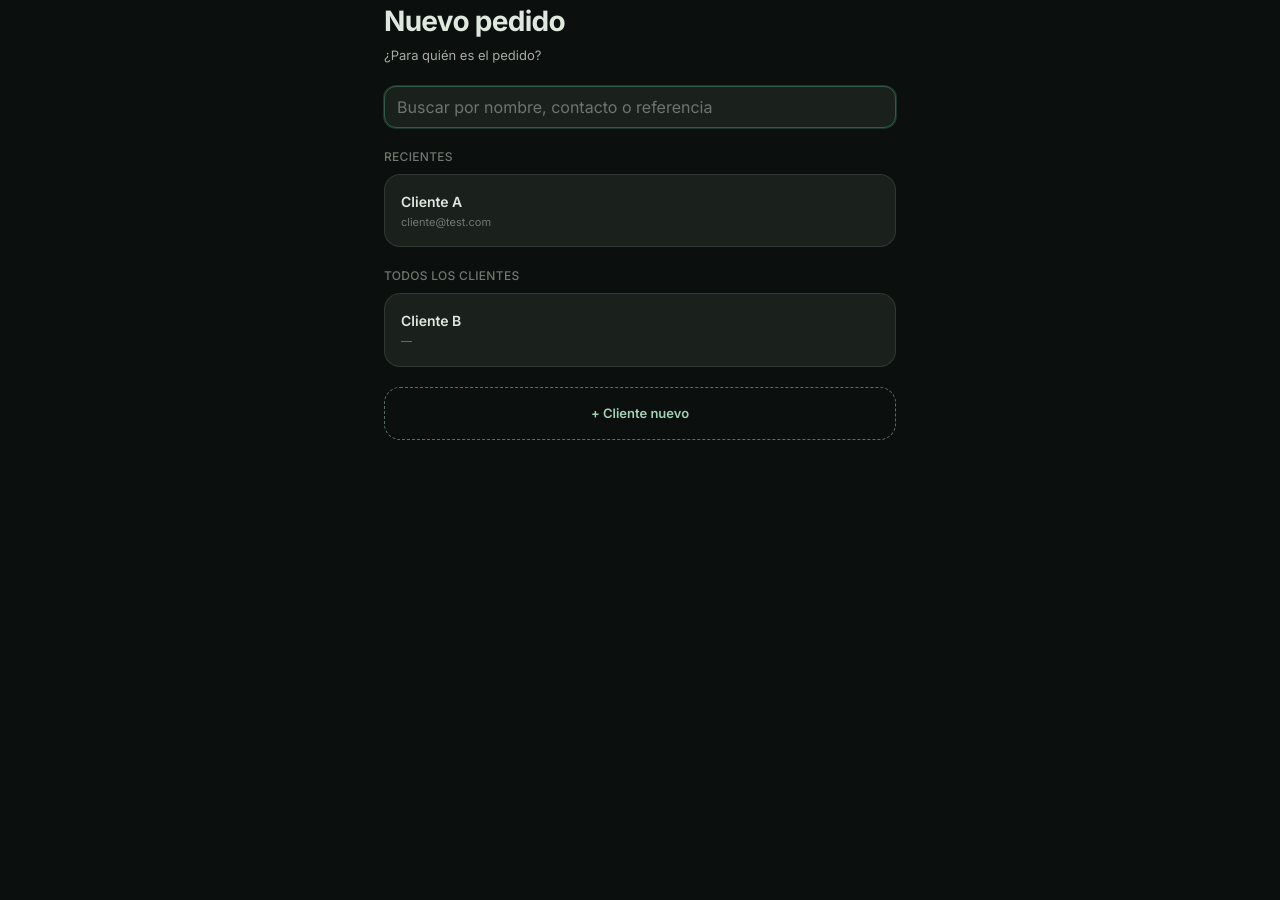
Scenario: NuevoPedidoPage › desktop split: el resumen es un panel visible en lg sin abrir el sheet móvil
Click the button "Cliente A cliente@test.com" at point(432, 201), box [384,174,896,247]
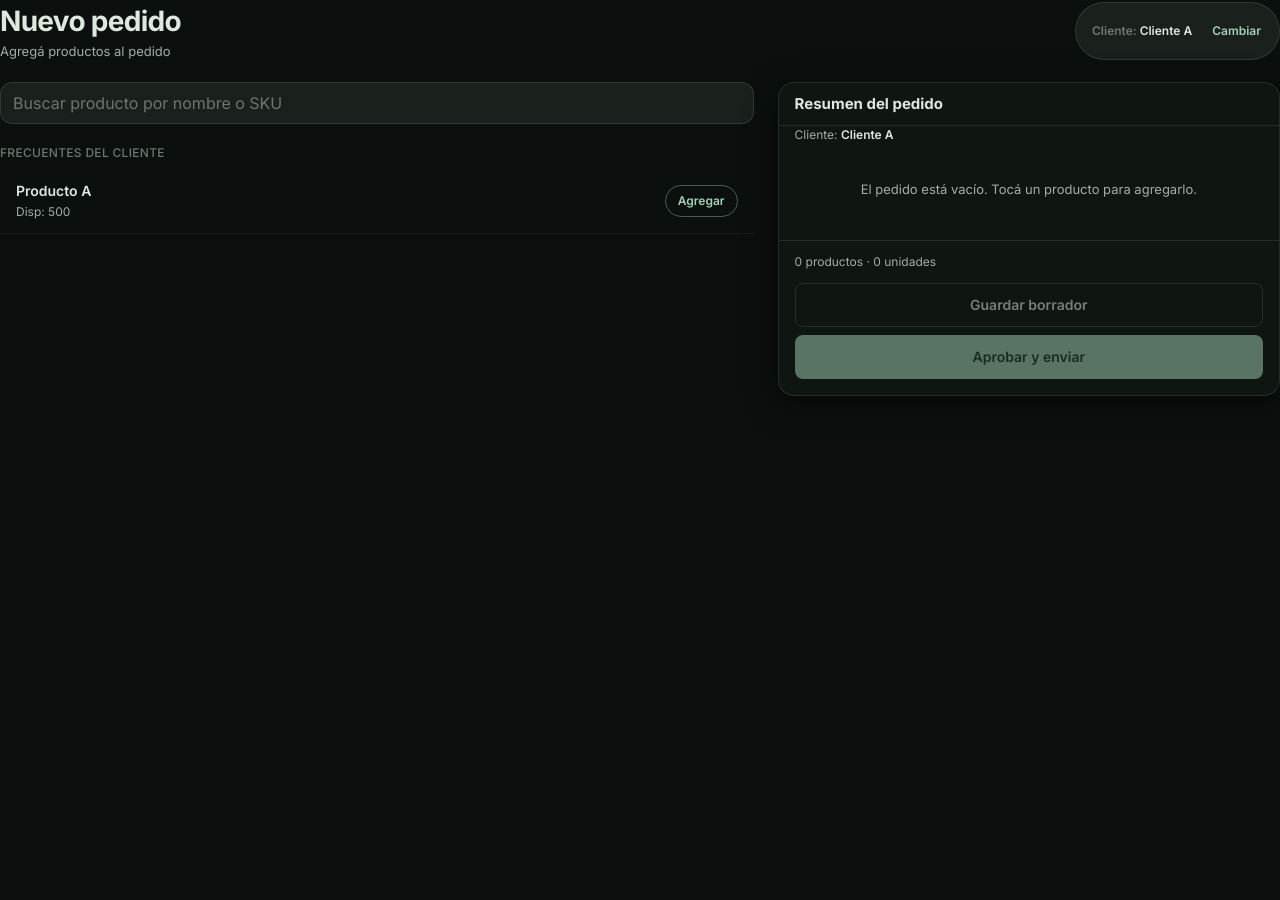
Expected: the button "Cambiar" is shown, [1200,9,1273,53]
Click the button with aria-label "Producto A" at point(701, 201), box [665,185,738,217]
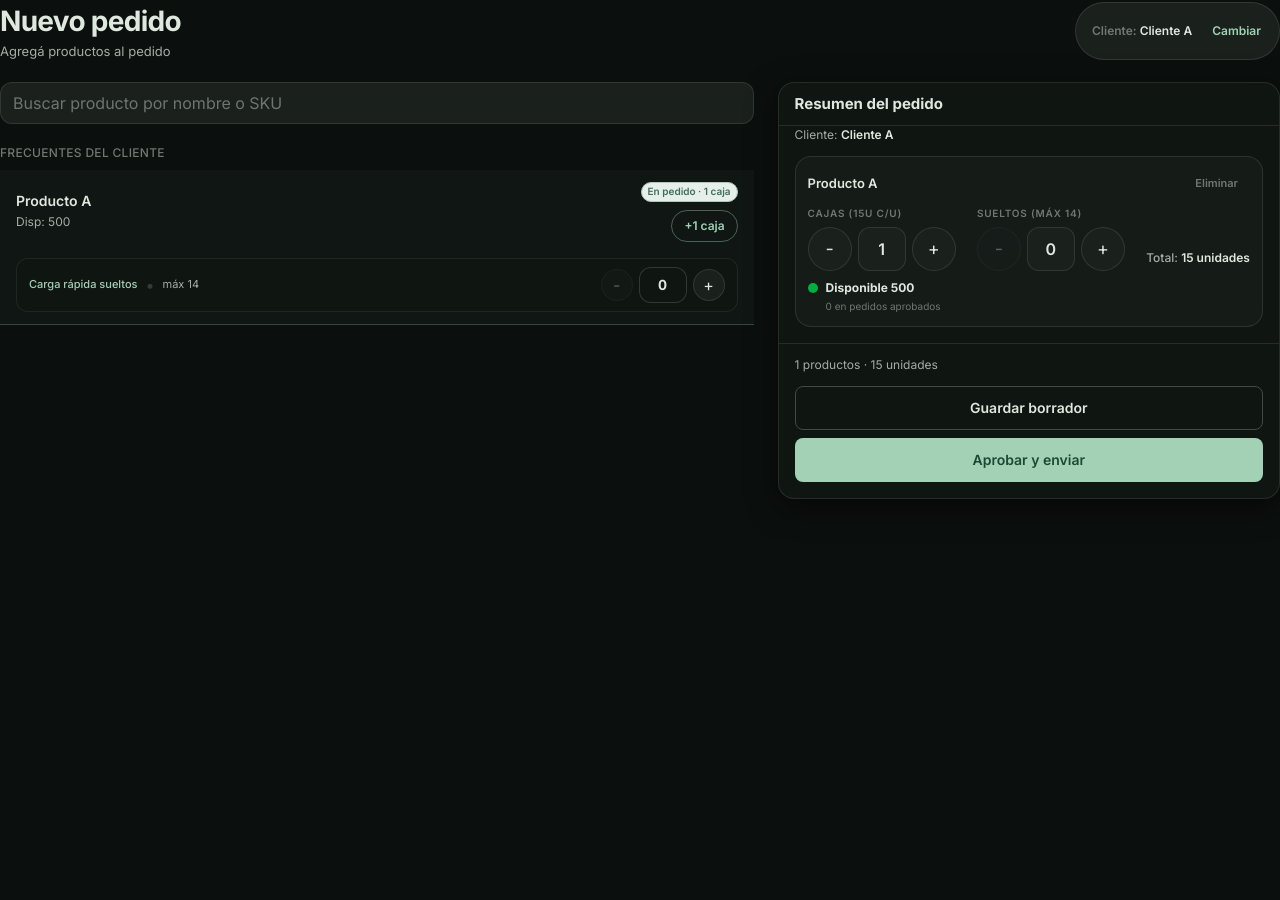
Expected: the dialog with test id "cart-panel" shows "Resumen del pedido", [795,94,943,112]
Expected: the button "Guardar borrador" is shown, [795,386,1263,430]
Expected: the element with test id "linea-prod-1" shows "15 unidades", [795,156,1263,326]
